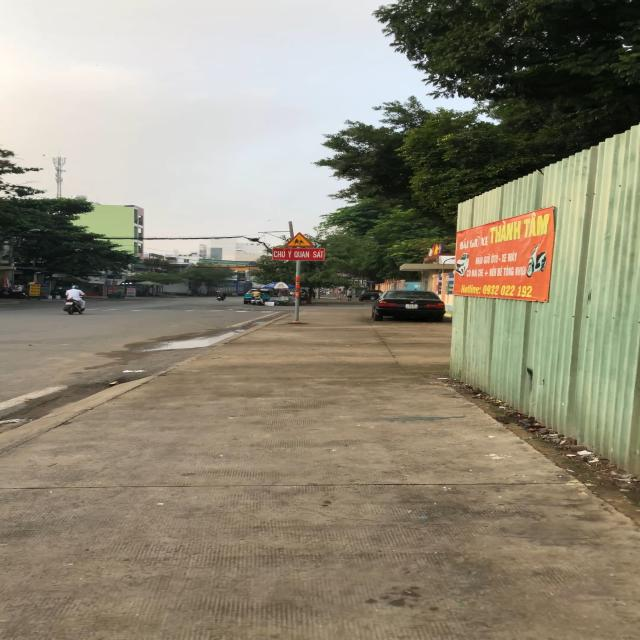Bien bao tre em: (284, 231, 316, 248)
